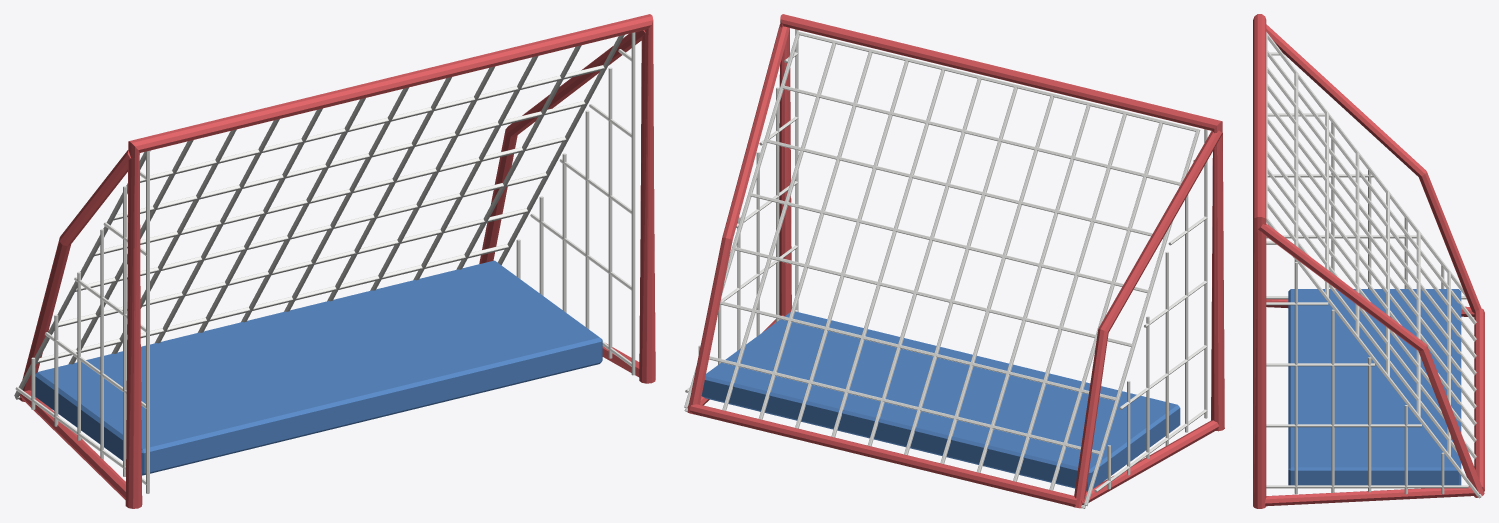
File: hockeygoal.glb
3 renders of one model, left to right at view 1: azimuth 30°, elevation 25°; view 2: azimuth 150°, elevation 25°; view 3: azimuth 270°, elevation 25°, orthographic. The views are drawn at different scales.
Parts seen in each view (by area): view 1: hockey-goal; view 2: hockey-goal; view 3: hockey-goal.
Part boxes in pixels (x1,y1,x2,y2): hockey-goal: [14, 14, 655, 508]; hockey-goal: [684, 14, 1224, 508]; hockey-goal: [1253, 14, 1484, 508].
Bounding box in the file's own units: 1.88 × 1.25 × 0.8967.
